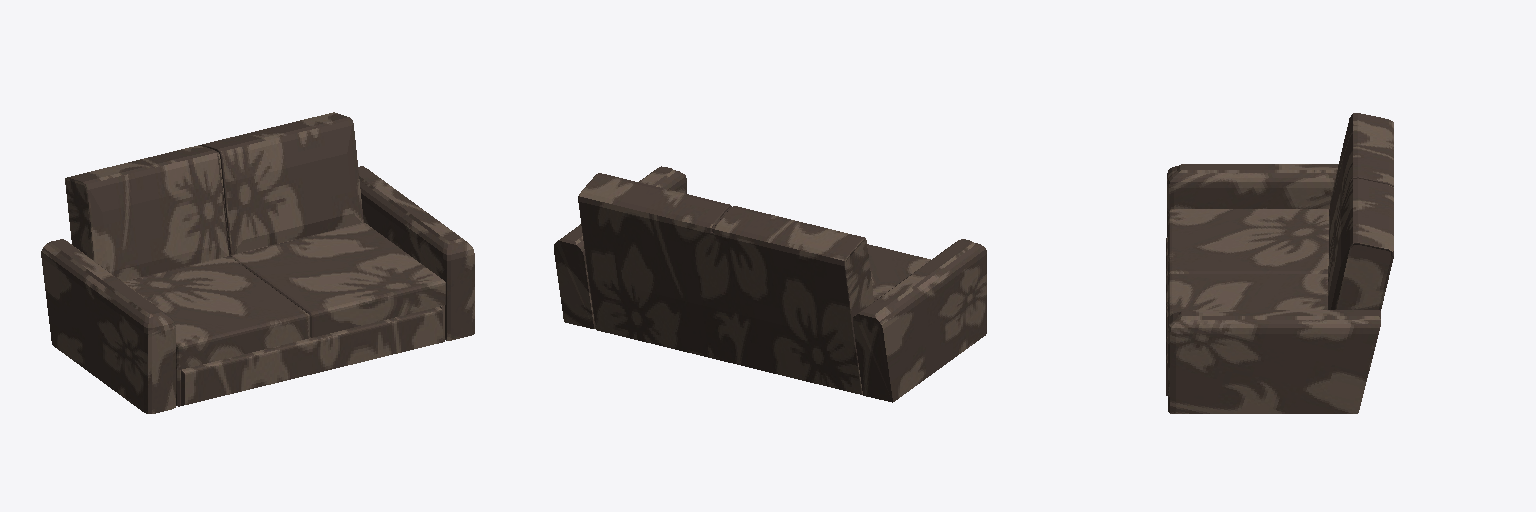
The picture shows the model from 3 angles: view 1: azimuth 30°, elevation 25°; view 2: azimuth 150°, elevation 25°; view 3: azimuth 270°, elevation 25°; orthographic projection.
Visible parts, largest first — view 1: Sofa; view 2: Sofa; view 3: Sofa.
Boxes of the visible parts, x1,y1,x2,y2 form: Sofa: [41, 112, 474, 413]; Sofa: [554, 166, 986, 402]; Sofa: [1166, 113, 1393, 413].
Bounding box in the file's own units: 92.55 × 41.86 × 55.43.
Materials: 1 (1 with a texture image).